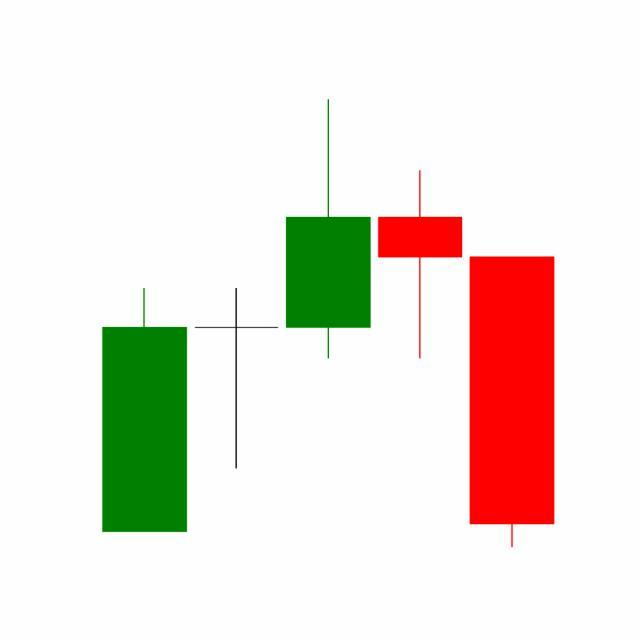Spinning Top: (374, 169, 468, 362)
